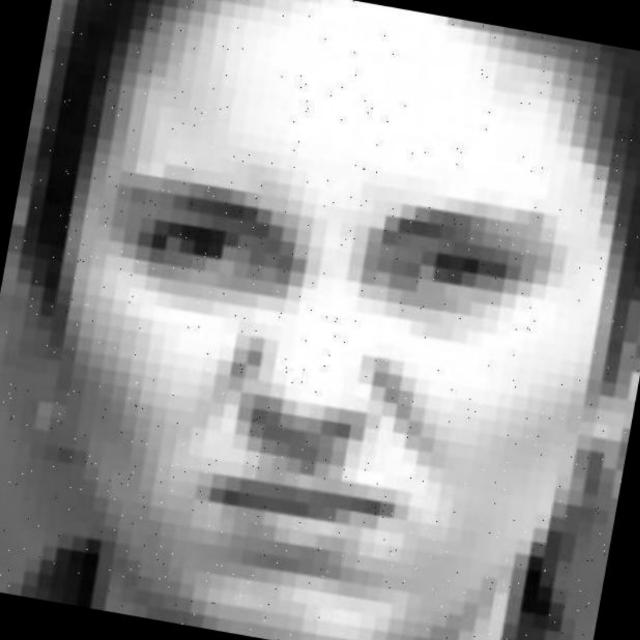Disgust: (55, 65, 620, 640)
